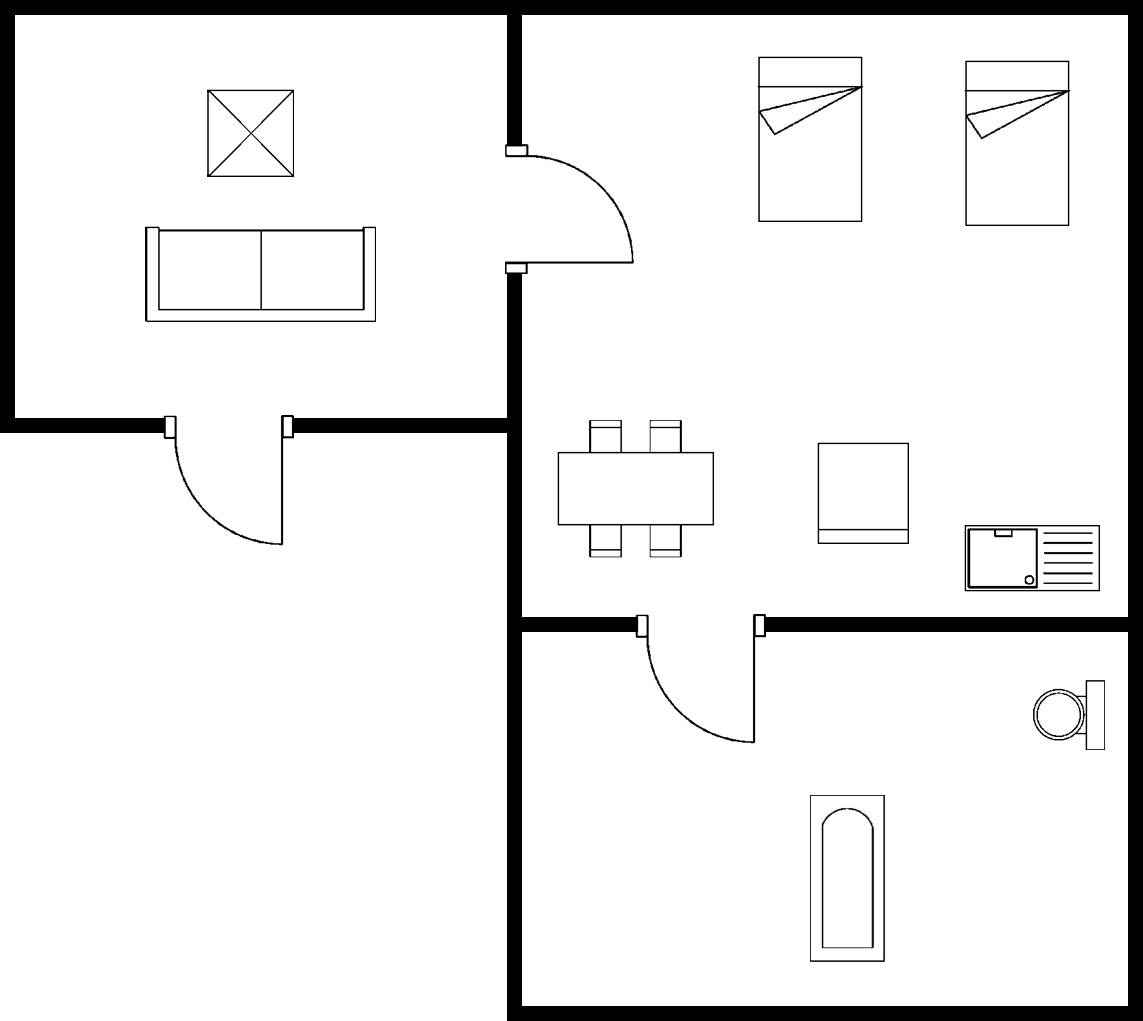bed: (960, 56, 1075, 231), (754, 51, 866, 228)
coffee_table: (201, 82, 301, 185)
dining_table: (551, 414, 721, 562)
large_sink: (1028, 677, 1110, 755)
large_sofa: (139, 223, 379, 325)
sink: (958, 520, 1105, 597)
small_sofa: (812, 436, 914, 552)
tub: (803, 789, 889, 967)
